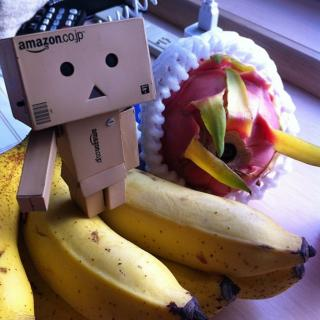Banana: (0, 128, 316, 320), (19, 151, 195, 315), (0, 132, 36, 320)
